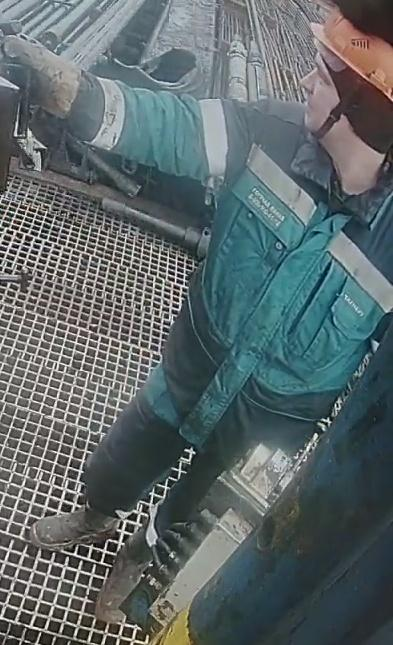gloves: (0, 32, 103, 145)
helmet: (307, 0, 393, 99)
vest: (150, 101, 392, 448)
